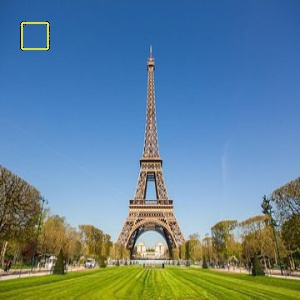square: (19, 20, 51, 51)
